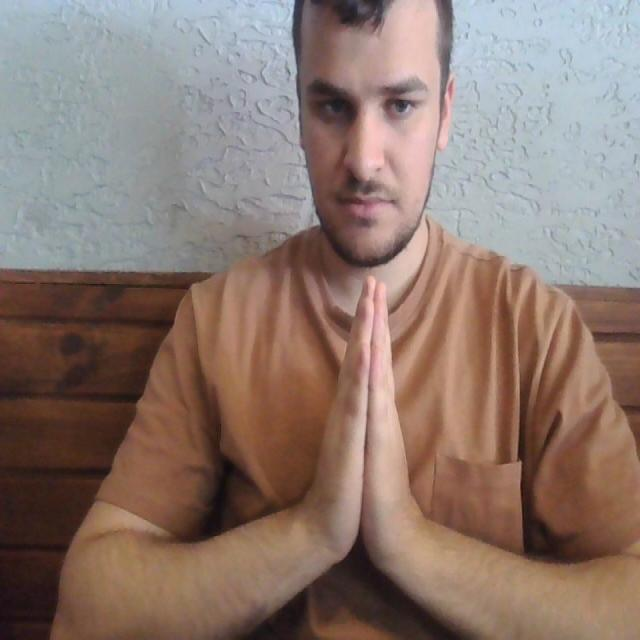Ozur-Dilemek: (310, 266, 418, 591)
